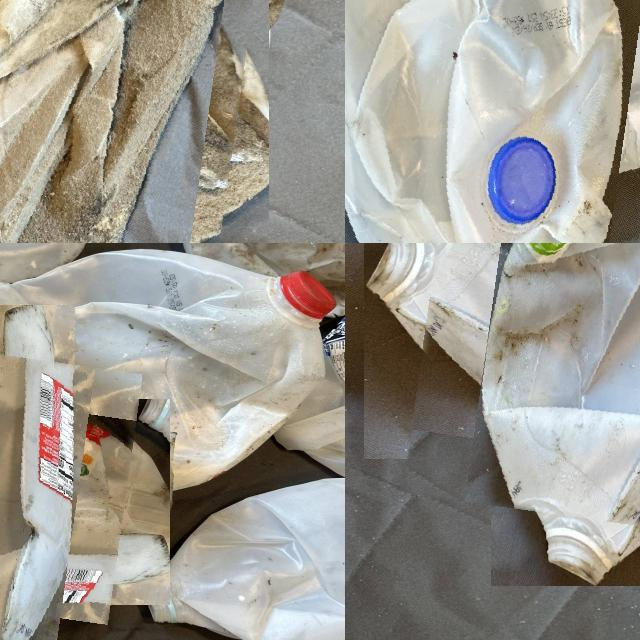milk-jug: (345, 0, 640, 243), (41, 254, 328, 488), (415, 243, 640, 535), (0, 0, 254, 243), (0, 341, 132, 640), (138, 467, 345, 640), (0, 269, 70, 457)
